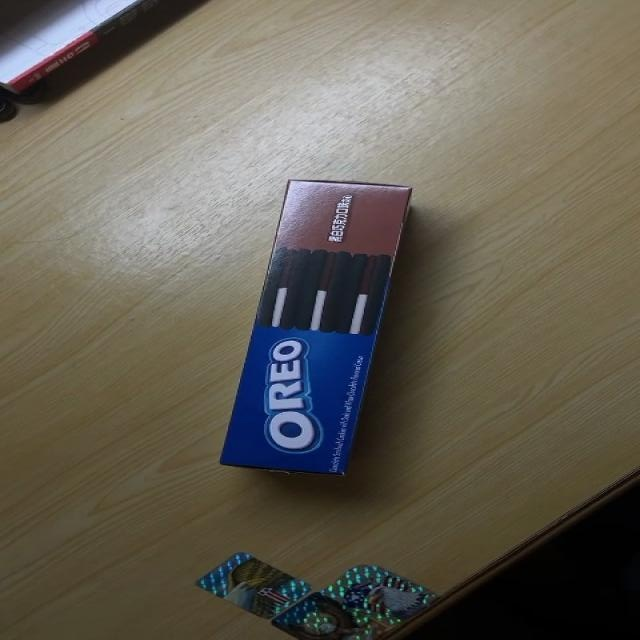Oreo: (202, 178, 410, 478)
